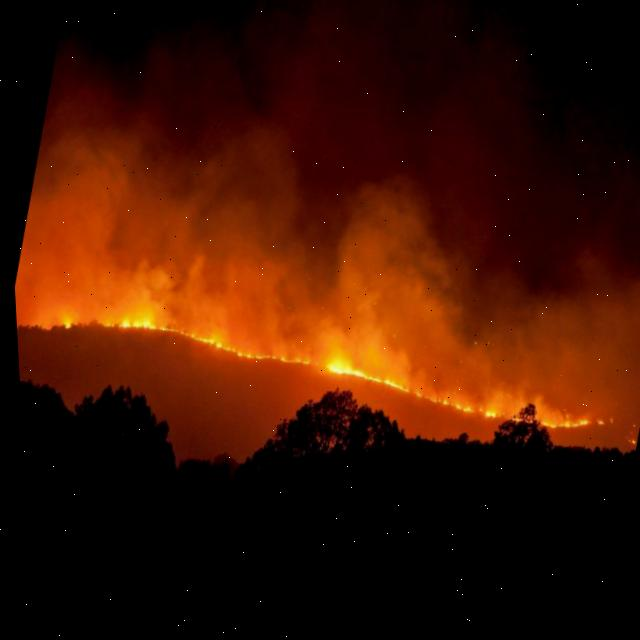smoke: (12, 0, 640, 469)
